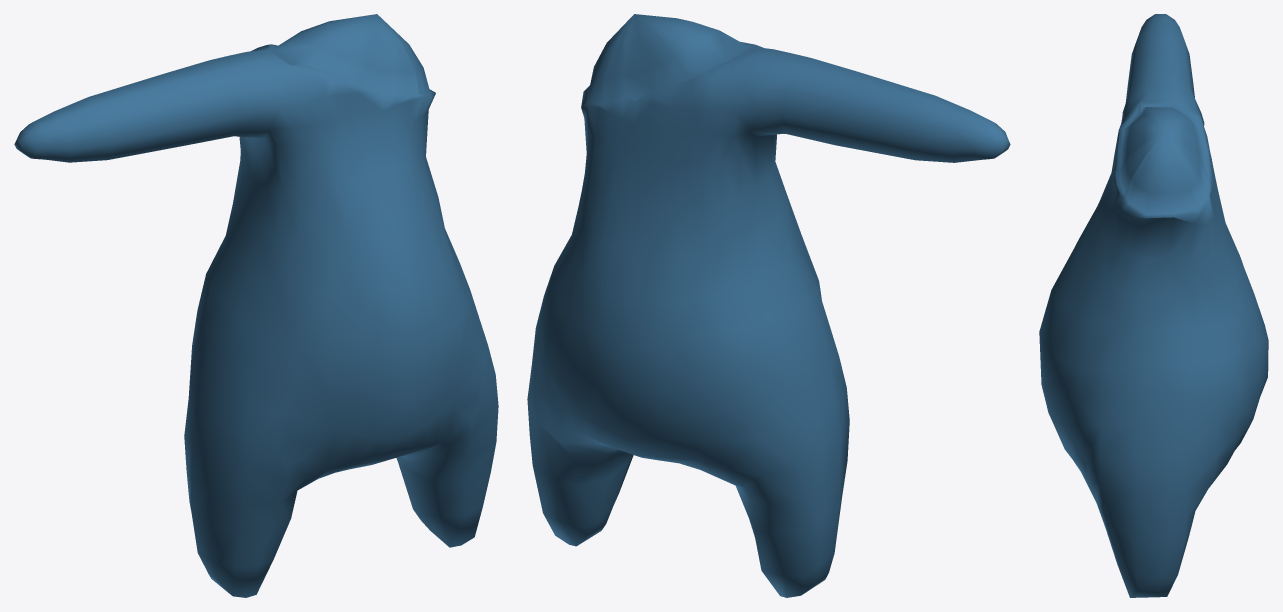
File: Puppe_06_SM.FBX
3 renders of one model, left to right at view 1: azimuth 30°, elevation 25°; view 2: azimuth 150°, elevation 25°; view 3: azimuth 270°, elevation 25°, orthographic. The views are drawn at different scales.
Parts seen in each view (by area): view 1: Voodoo 06; view 2: Voodoo 06; view 3: Voodoo 06.
Boxes of the visible parts, x1,y1,x2,y2 form: Voodoo 06: (14,14,498,597); Voodoo 06: (527,14,1010,597); Voodoo 06: (1039,14,1268,597).
Bounding box in the file's own units: 22.15 × 24.59 × 11.63.
